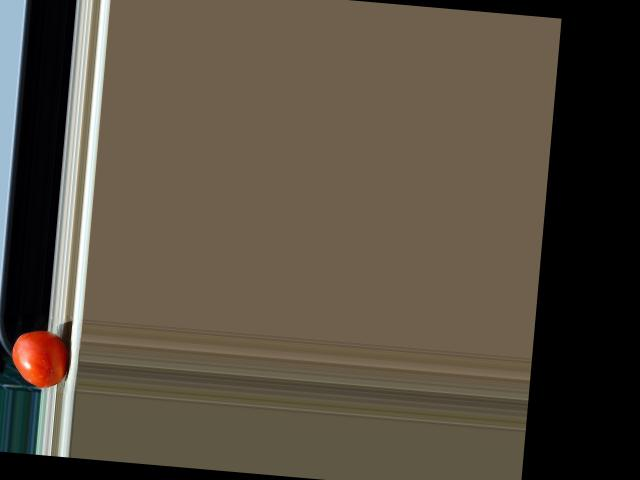tomato: (9, 328, 69, 389)
